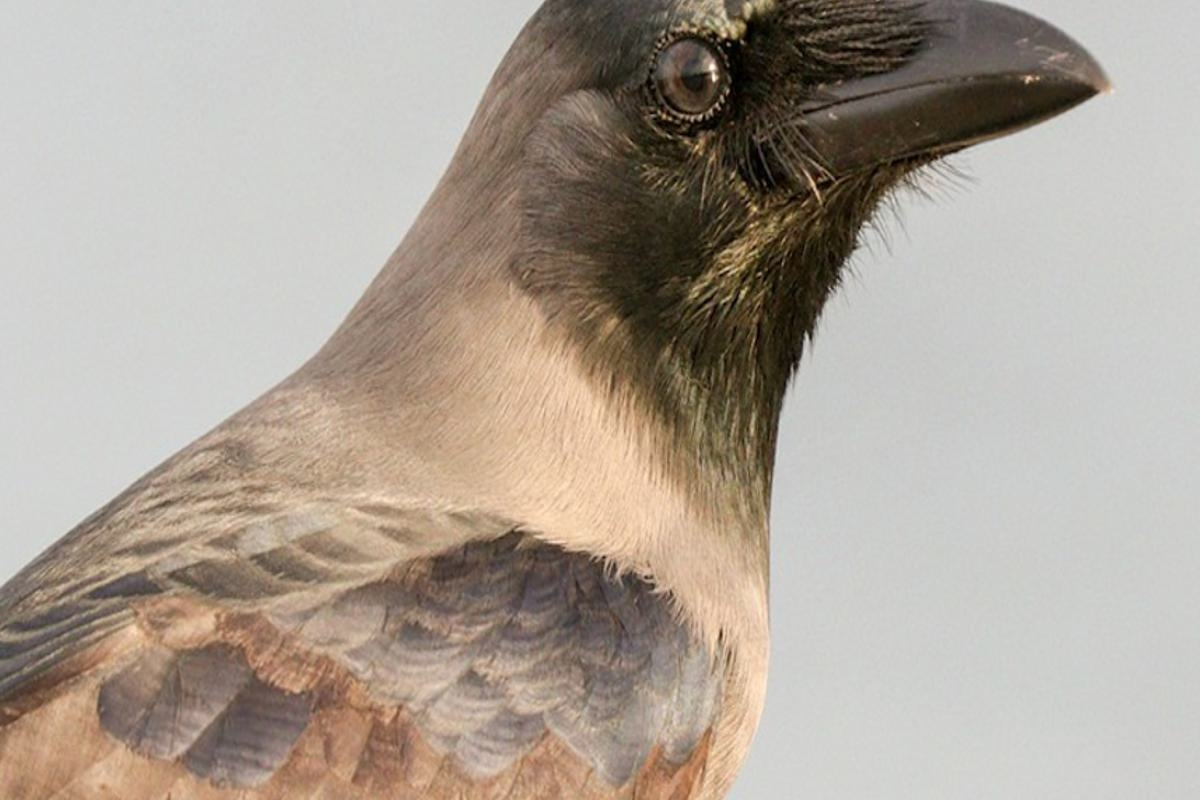crow: (29, 9, 1107, 800)
